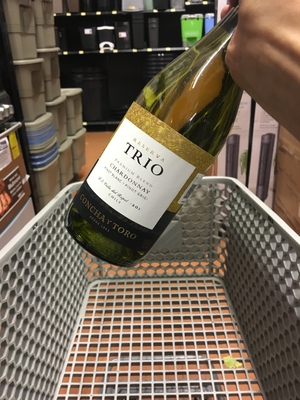trio chardonnay: (73, 32, 235, 280)
